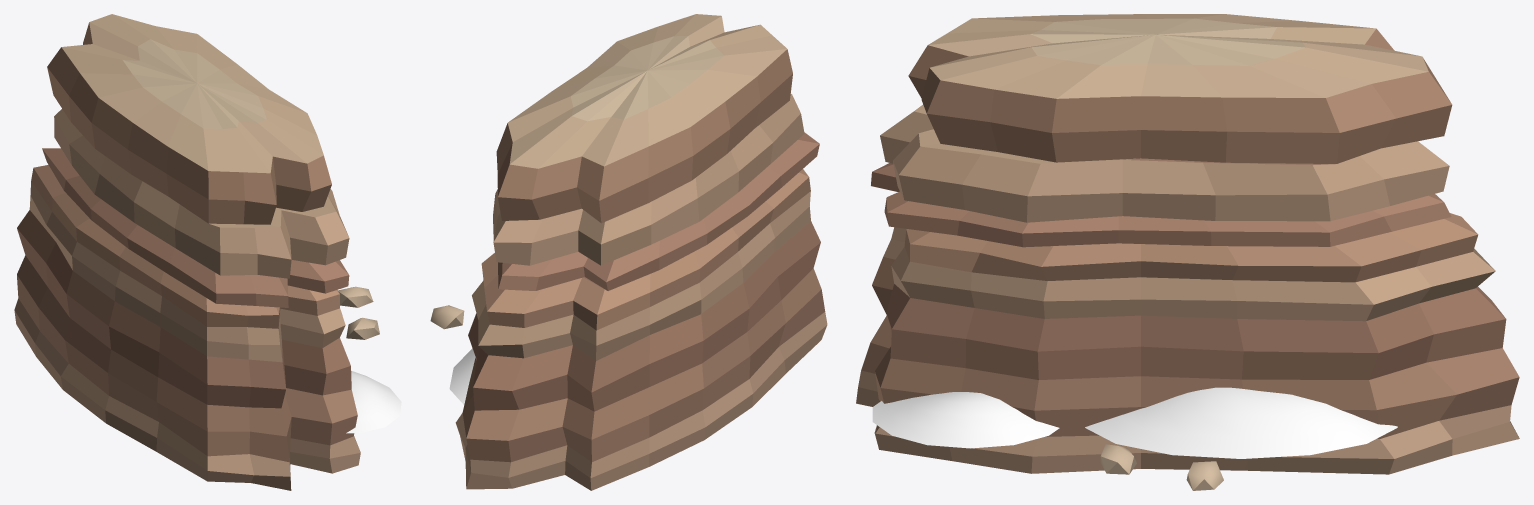
The model's file is roca_canon_b.glb.
The picture shows the model from 3 angles, left to right: view 1: azimuth 30°, elevation 25°; view 2: azimuth 150°, elevation 25°; view 3: azimuth 270°, elevation 25°; orthographic projection. The views are drawn at different scales.
Visible parts, largest first — view 1: roca_canon_b, roca_canon_b_arena; view 2: roca_canon_b, roca_canon_b_arena; view 3: roca_canon_b, roca_canon_b_arena.
Part boxes in pixels (x1=…): roca_canon_b: x1=14, y1=14, x2=379, y2=490; roca_canon_b_arena: x1=346, y1=371, x2=401, y2=433; roca_canon_b: x1=430, y1=14, x2=827, y2=490; roca_canon_b_arena: x1=449, y1=348, x2=475, y2=404; roca_canon_b: x1=856, y1=14, x2=1519, y2=490; roca_canon_b_arena: x1=872, y1=387, x2=1397, y2=458.
Bounding box in the file's own units: 8.23 × 8.48 × 13.24.
